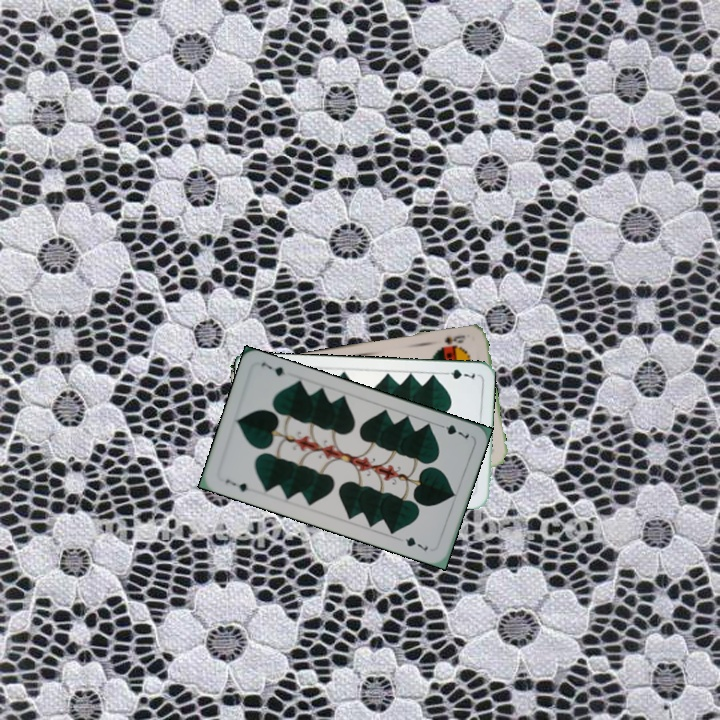G7: (434, 420, 472, 441), (221, 475, 255, 495), (438, 365, 477, 382)
SO: (437, 331, 468, 351)
